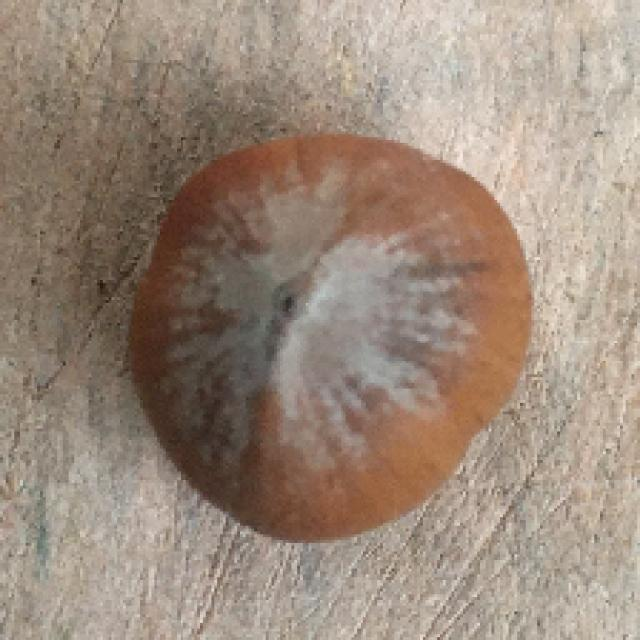damagedHazelnut: (124, 124, 537, 546)
